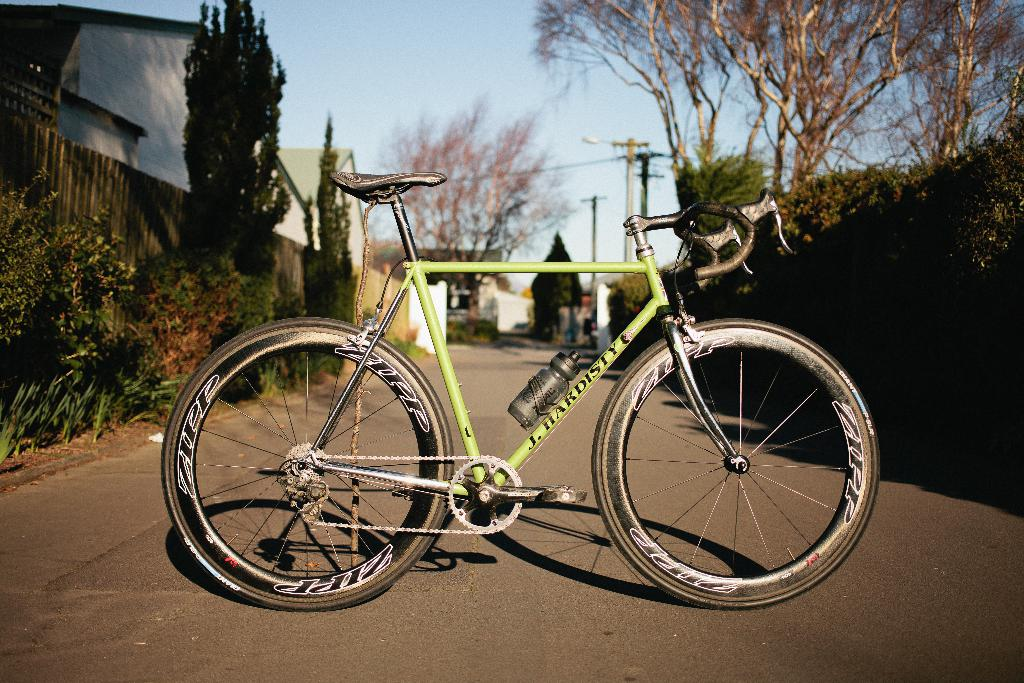Bike: (172, 154, 854, 630)
